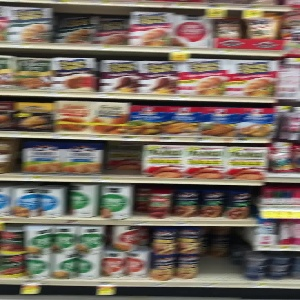void: (201, 222, 247, 284), (103, 134, 143, 176)
